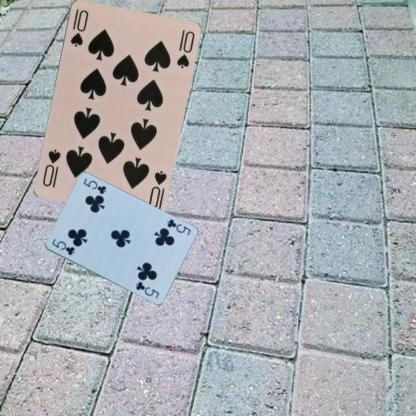10s: (68, 6, 90, 48), (146, 168, 168, 210)
5c: (164, 217, 192, 237), (49, 236, 76, 256)
